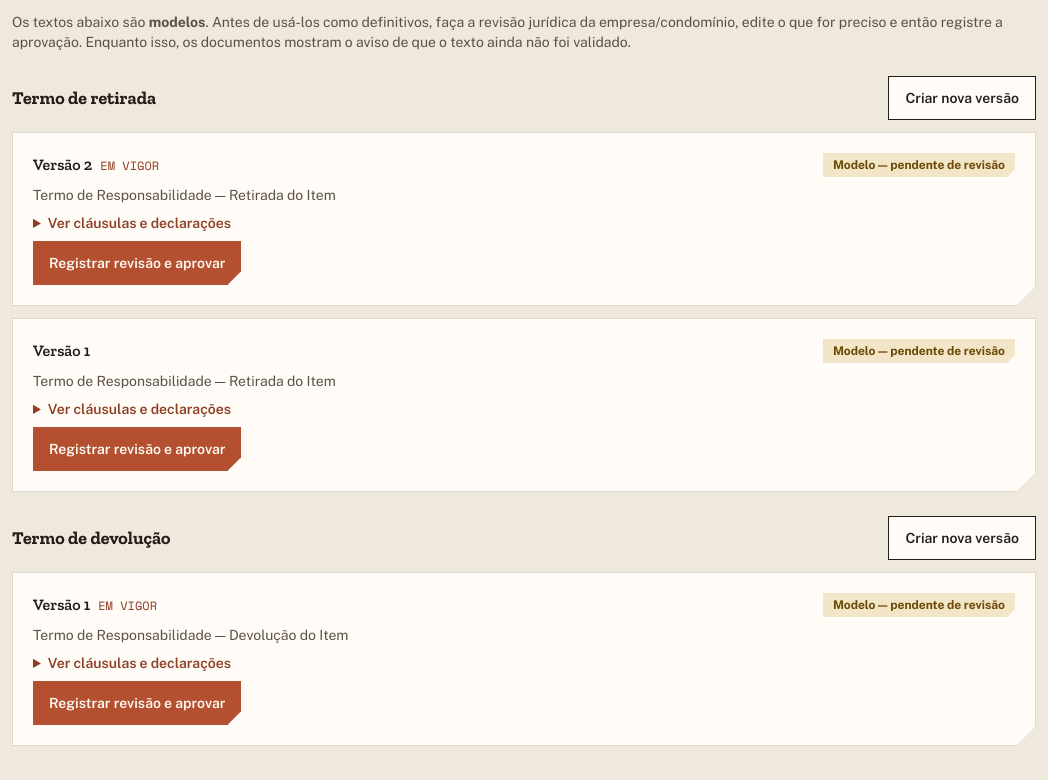
Test: AbaTermos › registrar a revisão marca a versão como aprovada, com a data
Click the button with aria-label "Registrar aprovação da versão 2 do termo de retirada" at x=137, y=263, box [33,241,241,285]
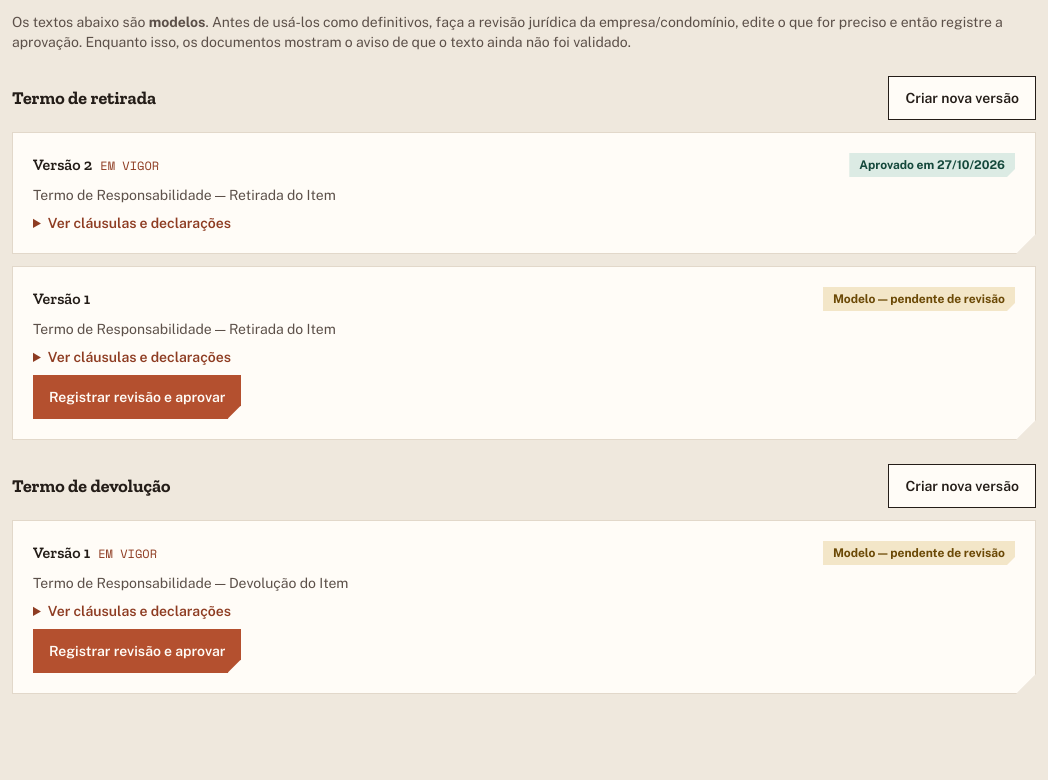
Now the text "Aprovado em 27/10/2026" is shown, box [849,153,1015,177]
